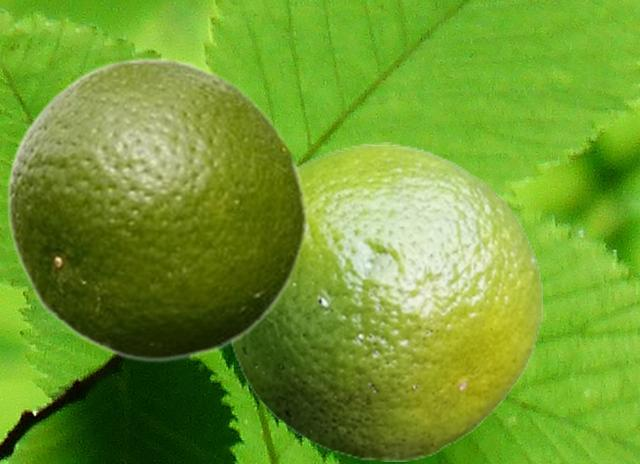calamansi: (229, 142, 541, 460), (6, 54, 308, 362)
